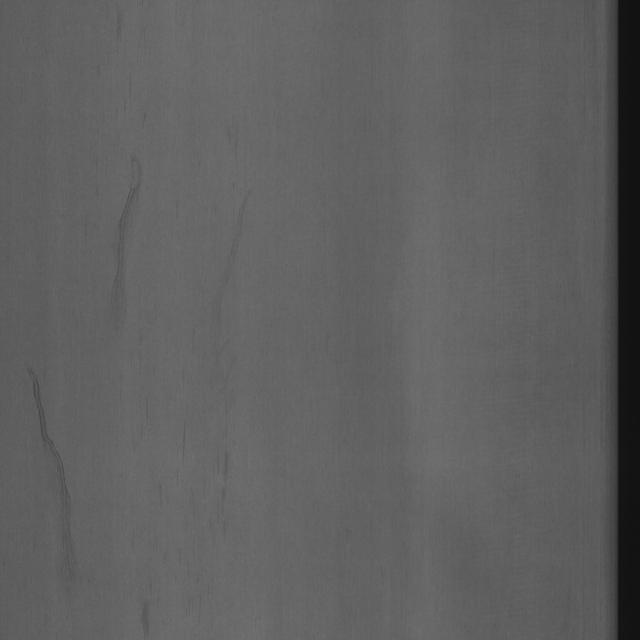water_spot: (24, 356, 92, 596), (99, 156, 150, 320)
